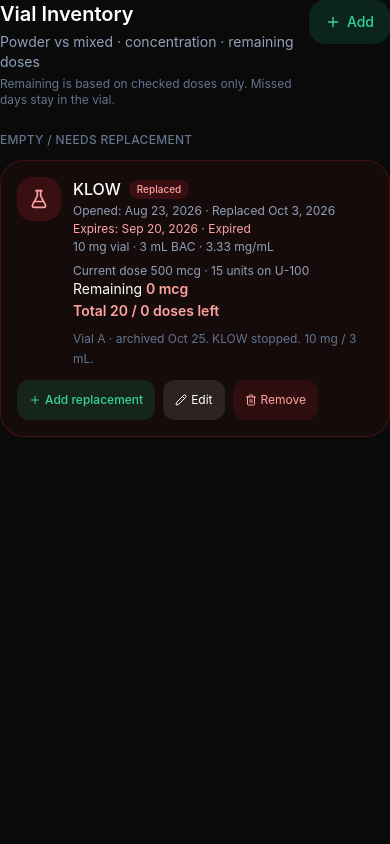
Test: Vial opened date, expiration, and remove › adds a fresh KLOW 80 mg vial and does not bring the archived vial back
Expected: the text "Vial A · archived Oct 25. KLOW stopped. 10 mg / 3 mL." is shown, [73,329,373,368]
Step 1. Click the button "Add" → (349,22), box [309,0,389,44]
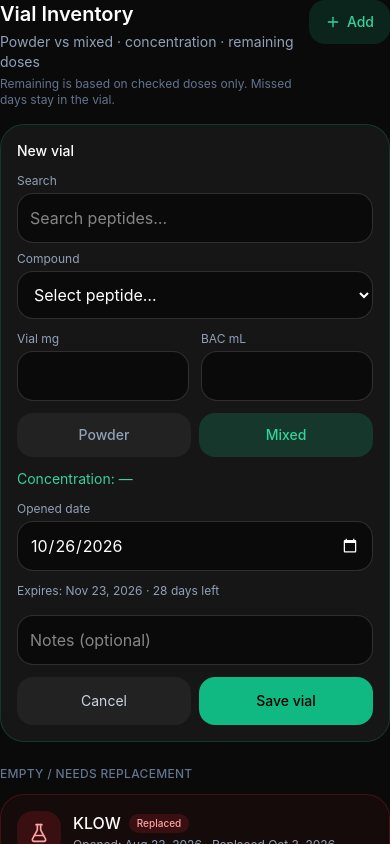
Step 2. Select "KLOW" in the dropdown labelled "Compound" → (195,295), box [17,271,373,319]
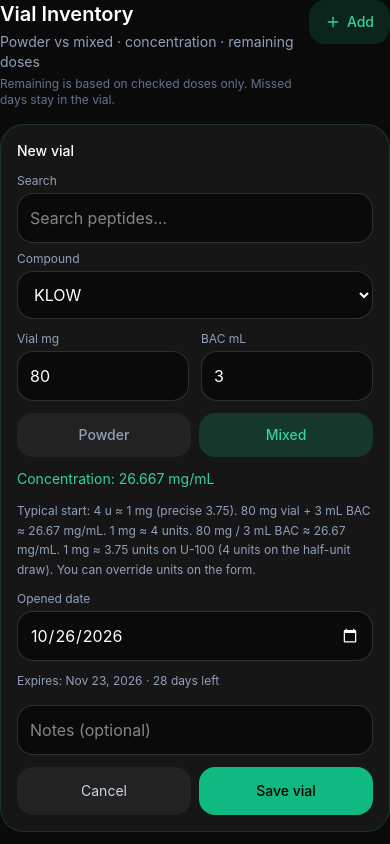
Now the number field labelled "Vial mg" holds "80", box [17,351,189,401]
Now the number field labelled "BAC mL" holds "3", box [201,351,373,401]
Step 3. Click the button "Save vial" → (286,791), box [199,767,373,815]
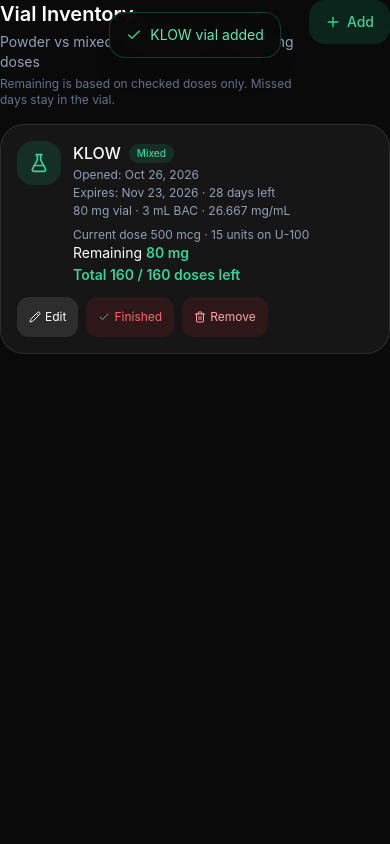
Expected: the text "KLOW stopped" is not shown
Now the text "80 mg vial · 3 mL BAC · 26.667 mg/mL" is shown, box [73,203,290,218]
